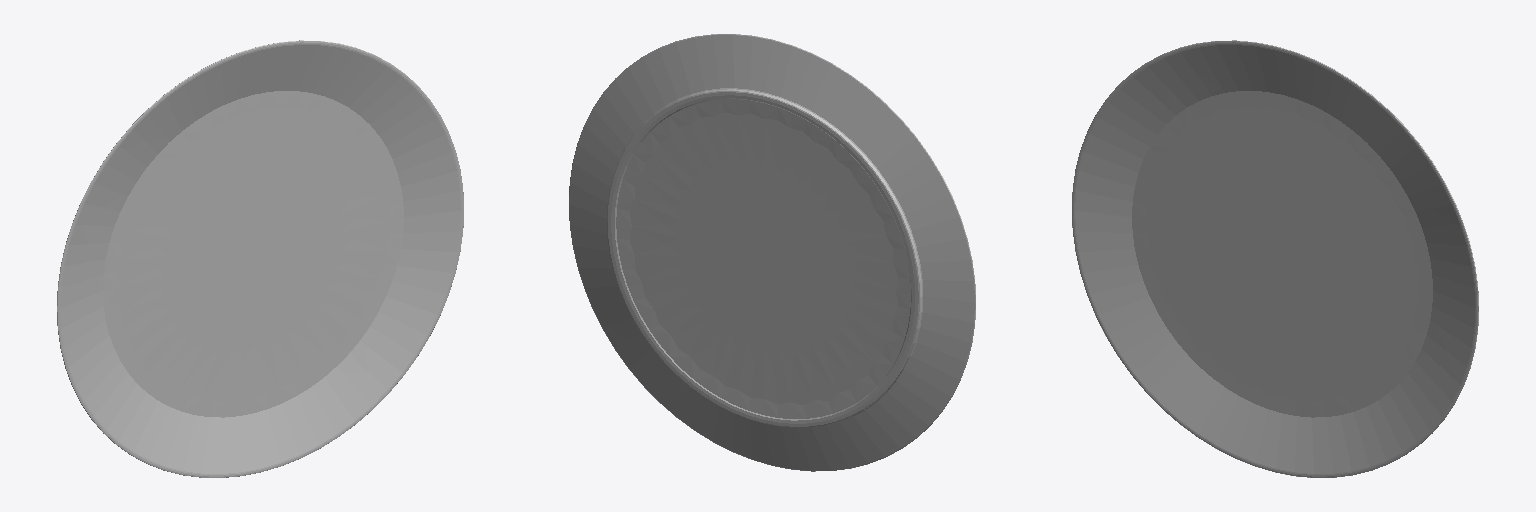
The model's file is plate.obj.
3 renders of one model, left to right at view 1: azimuth 30°, elevation 25°; view 2: azimuth 150°, elevation 25°; view 3: azimuth 330°, elevation 25°, orthographic.
Visible parts, largest first — view 1: plate; view 2: plate; view 3: plate.
Part boxes in pixels (x1,y1,x2,y2): plate: (57, 40, 463, 477); plate: (569, 34, 975, 471); plate: (1072, 40, 1478, 477).
Size of the model in its own units: 0.207 by 0.207 by 0.0086.